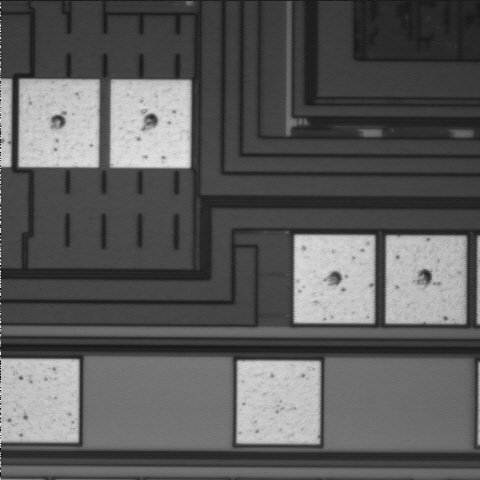pad: (110, 80, 191, 168), (294, 235, 374, 323), (19, 80, 99, 167), (386, 236, 465, 323), (237, 361, 320, 443)
